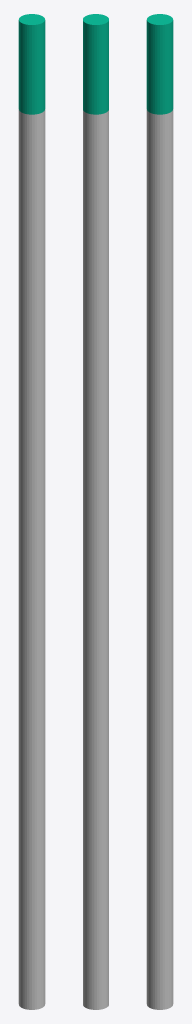
File: 008B54fixed.glb
3 renders of one model, left to right at view 1: azimuth 90°, elevation 25°; view 2: azimuth 150°, elevation 25°; view 3: azimuth 270°, elevation 25°, orthographic.
Visible parts, largest first — view 1: Long_Electrode_Body, Long_Electrode_Tip; view 2: Long_Electrode_Body, Long_Electrode_Tip; view 3: Long_Electrode_Body, Long_Electrode_Tip.
Boxes of the visible parts, x1=… form: Long_Electrode_Body: x1=18, y1=109, x2=45, y2=1009; Long_Electrode_Tip: x1=18, y1=14, x2=45, y2=114; Long_Electrode_Body: x1=83, y1=110, x2=108, y2=1009; Long_Electrode_Tip: x1=83, y1=14, x2=108, y2=114; Long_Electrode_Body: x1=146, y1=109, x2=173, y2=1009; Long_Electrode_Tip: x1=146, y1=14, x2=173, y2=114.
Size of the model in its own units: 0.4 by 16.5 by 0.4.
